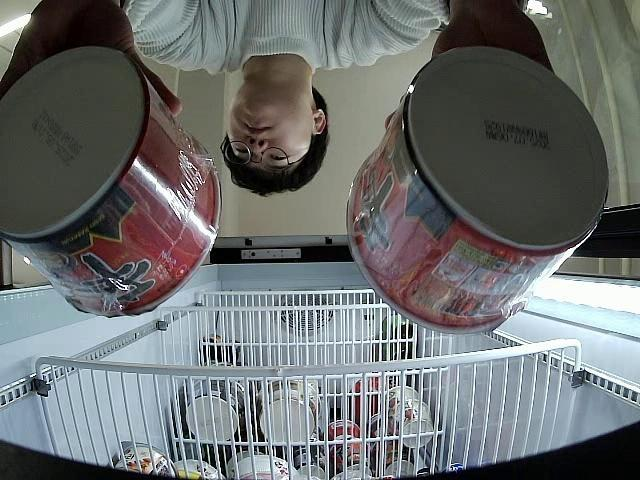01_ShinRamen_L: (346, 45, 610, 336), (1, 46, 220, 316)
